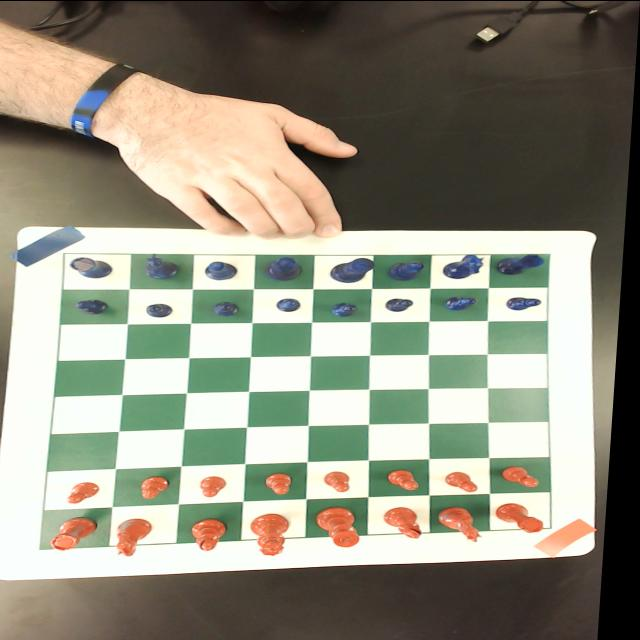B: (390, 260, 428, 280), (208, 260, 243, 280)
K: (333, 256, 379, 282)
N: (444, 254, 490, 278), (146, 252, 183, 278)
P: (510, 296, 547, 310), (389, 296, 420, 312), (80, 299, 113, 314), (448, 296, 483, 310), (278, 297, 308, 311), (150, 303, 179, 317), (216, 302, 244, 316), (336, 302, 363, 316)
Q: (267, 256, 308, 280)
R: (72, 255, 120, 278), (501, 252, 550, 274)
b: (389, 506, 433, 538), (194, 518, 236, 550)
k: (320, 506, 370, 546)
n: (444, 506, 491, 542), (121, 517, 163, 556)
p: (507, 465, 547, 487), (392, 468, 427, 491), (450, 471, 487, 492), (72, 481, 107, 503), (146, 476, 178, 498), (205, 475, 235, 497), (270, 472, 299, 494), (330, 471, 359, 492)
q: (255, 512, 298, 556)
r: (57, 516, 106, 550), (502, 502, 553, 532)
